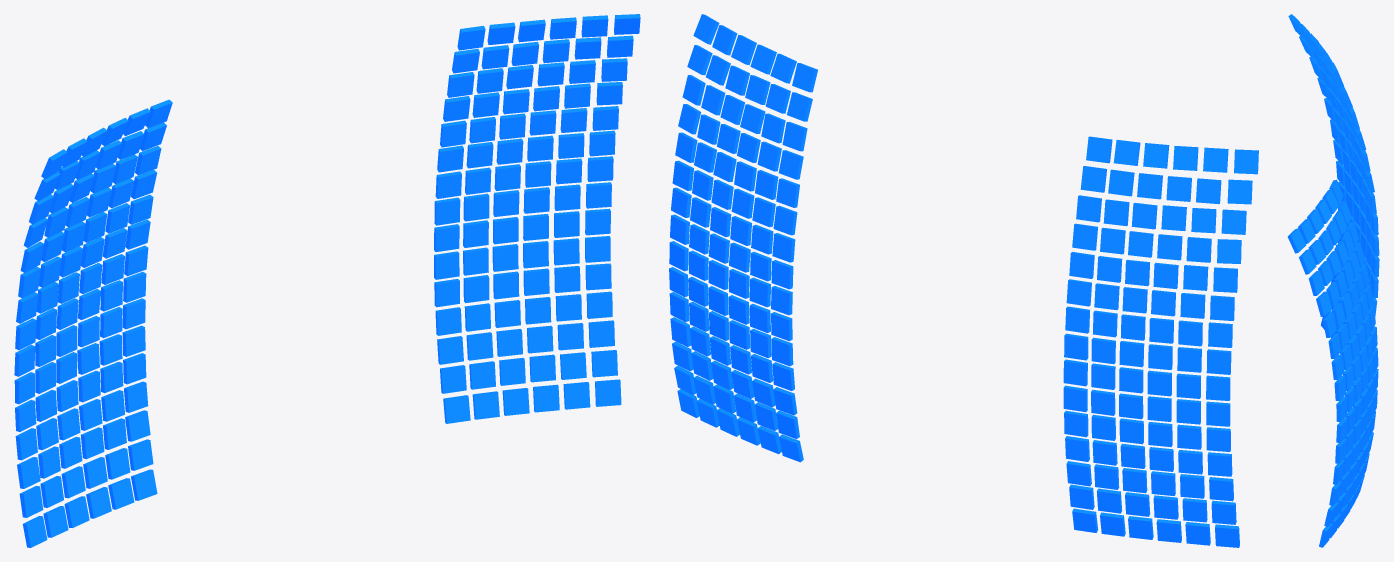
The model's file is chr_bunny01_expression_neutral_visual_top3d.glb.
3 renders of one model, left to right at view 1: azimuth 30°, elevation 25°; view 2: azimuth 150°, elevation 25°; view 3: azimuth 270°, elevation 25°, orthographic. The views are drawn at different scales.
Parts seen in each view (by area): view 1: ExpressionPixels; view 2: ExpressionPixels; view 3: ExpressionPixels.
Boxes of the visible parts, x1,y1,x2,y2 form: ExpressionPixels: [14, 14, 640, 547]; ExpressionPixels: [669, 14, 1258, 547]; ExpressionPixels: [1287, 14, 1379, 547].
Size of the model in its own units: 0.3242 by 0.2103 by 0.0562.
